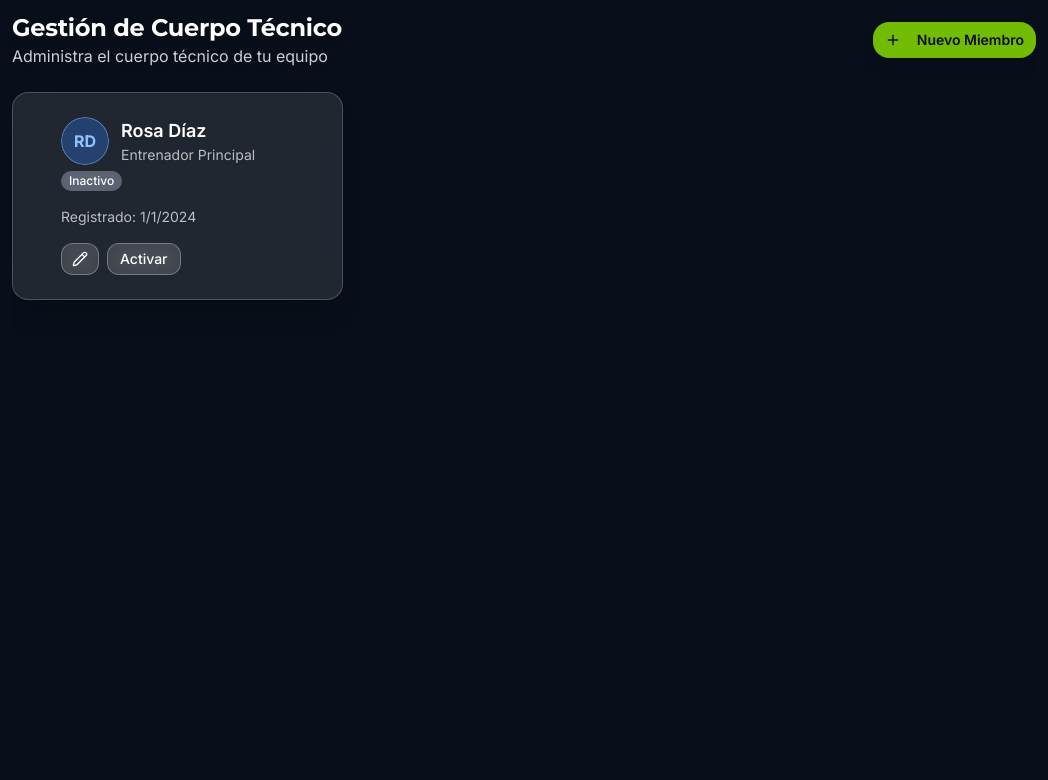
Test: CoachingStaffPage reactivate › PATCHes {is_active:true} for an inactive member and reloads
Click the button with aria-label "Activar a Rosa Díaz": click(144, 259) [107, 243, 180, 275]
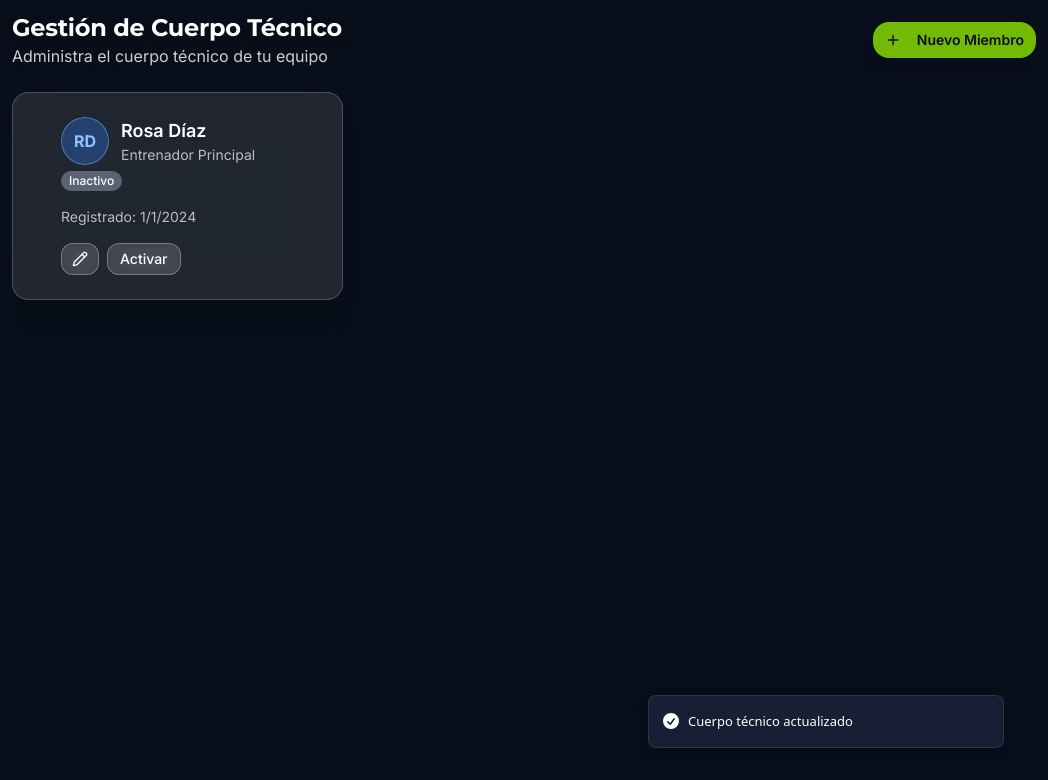
Now the text "Cuerpo técnico actualizado" is shown, box [688, 712, 853, 731]
